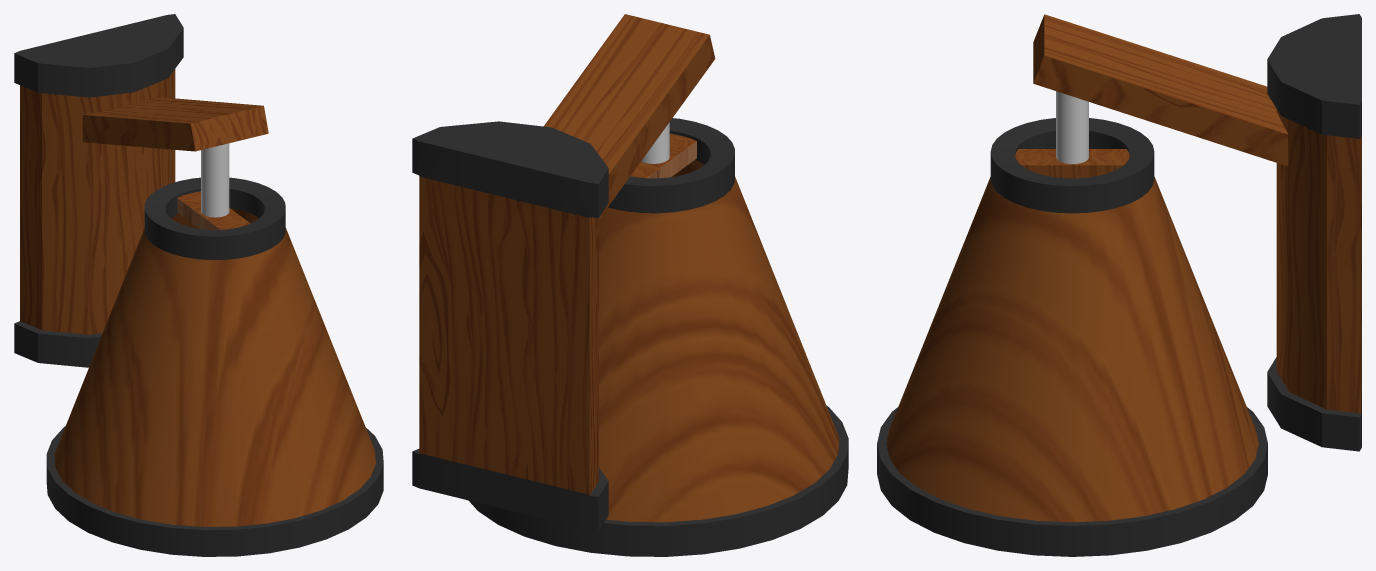
Rendered from SM_Props_Decor_Lamp.fbx.
The picture shows the model from 3 angles, left to right: view 1: azimuth 30°, elevation 25°; view 2: azimuth 150°, elevation 25°; view 3: azimuth 270°, elevation 25°; orthographic projection. The views are drawn at different scales.
Parts seen in each view (by area): view 1: SM_Props_Decor_Lamp; view 2: SM_Props_Decor_Lamp; view 3: SM_Props_Decor_Lamp.
Boxes of the visible parts, x1,y1,x2,y2 form: SM_Props_Decor_Lamp: [14, 14, 383, 556]; SM_Props_Decor_Lamp: [412, 14, 848, 556]; SM_Props_Decor_Lamp: [877, 14, 1361, 556].
Bounding box in the file's own units: 0.2841 × 0.3524 × 0.3523.
